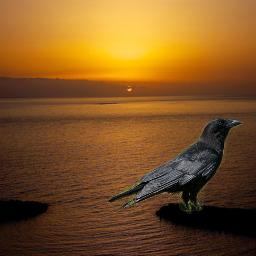Crow: (107, 118, 243, 214)
